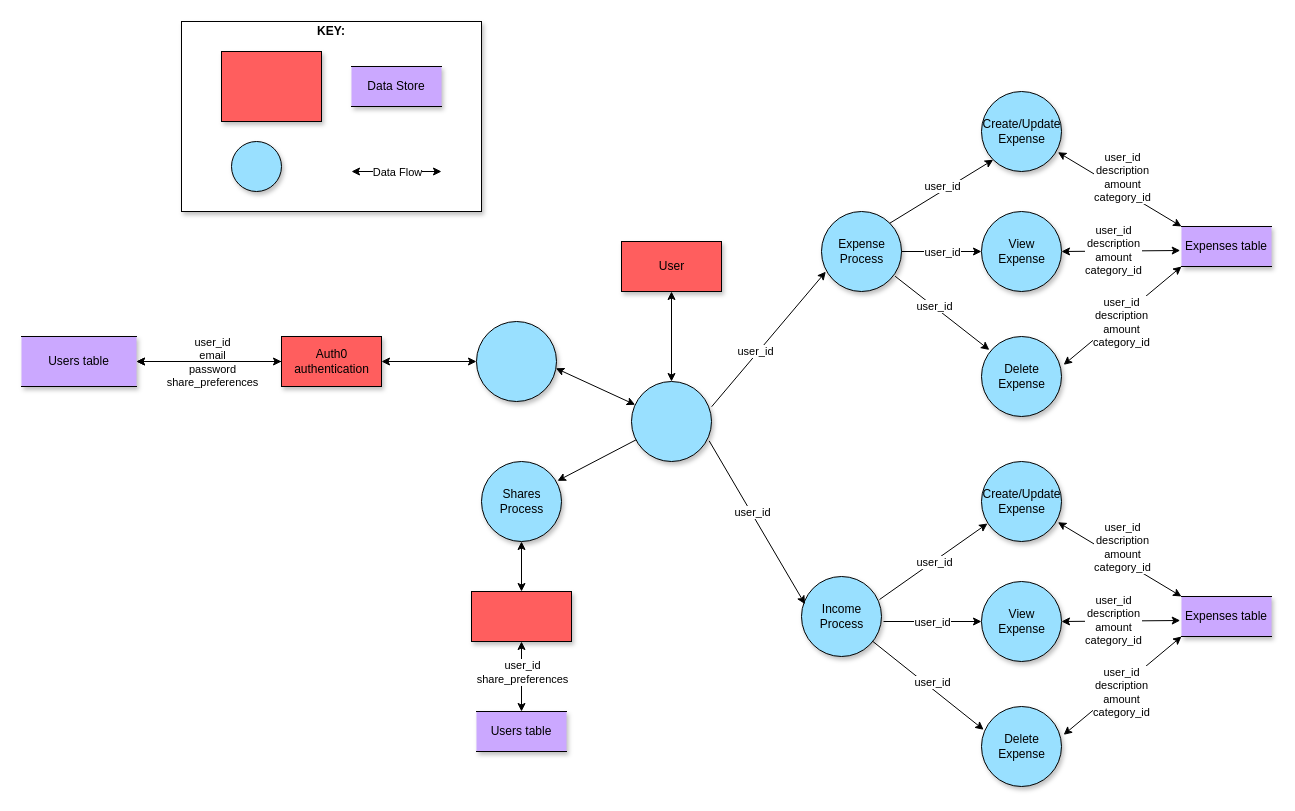
The diagram is 1295 pixels wide and 811 high, and some of its shapes have lost their labels. Each missing label, with the centre of its shape:
"Budget Tracker App" belongs at point (672, 422).
"External Entity" belongs at point (272, 87).
"Process" belongs at point (257, 167).
"TradingView API" belongs at point (522, 617).
"User Auhentication Process" belongs at point (517, 362).
